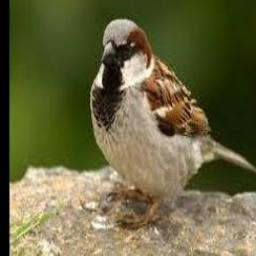Sparrow: (90, 18, 256, 230)
